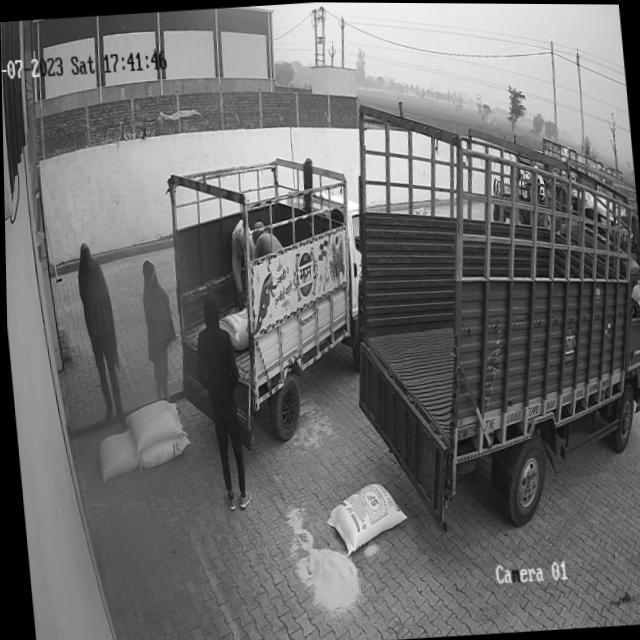sack: (321, 479, 406, 556), (122, 398, 182, 453), (94, 429, 137, 481), (135, 433, 188, 468)
